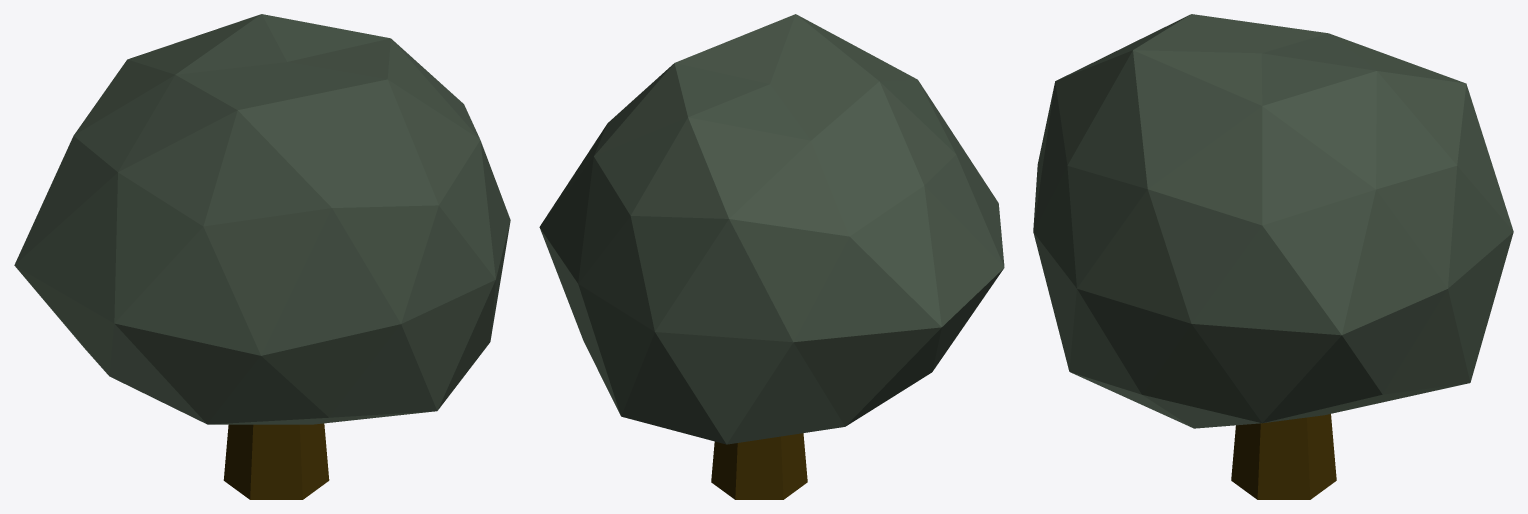
Rendered from ShrubB.fbx.
3 renders of one model, left to right at view 1: azimuth 30°, elevation 25°; view 2: azimuth 150°, elevation 25°; view 3: azimuth 270°, elevation 25°, orthographic. The views are drawn at different scales.
Parts seen in each view (by area): view 1: SketchUp.001; view 2: SketchUp.001; view 3: SketchUp.001.
Boxes of the visible parts, x1,y1,x2,y2 form: SketchUp.001: [14, 14, 510, 499]; SketchUp.001: [539, 14, 1004, 499]; SketchUp.001: [1033, 14, 1513, 499].
Bounding box in the file's own units: 223 × 216 × 210.
